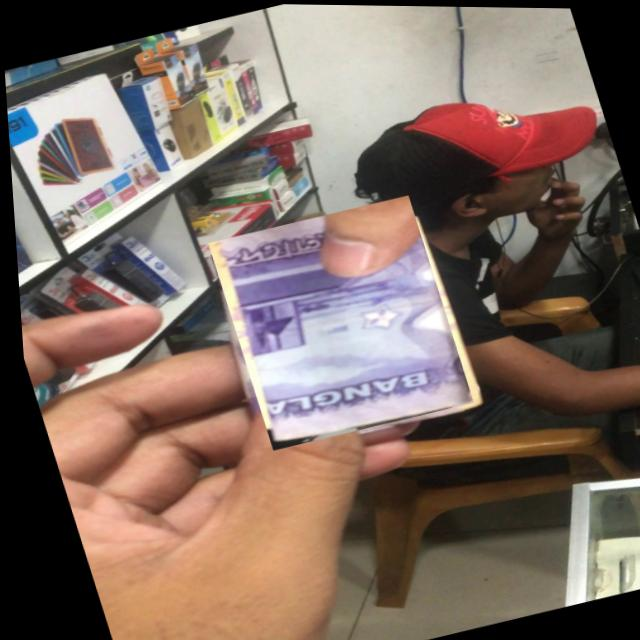Taka: (201, 191, 471, 452)
